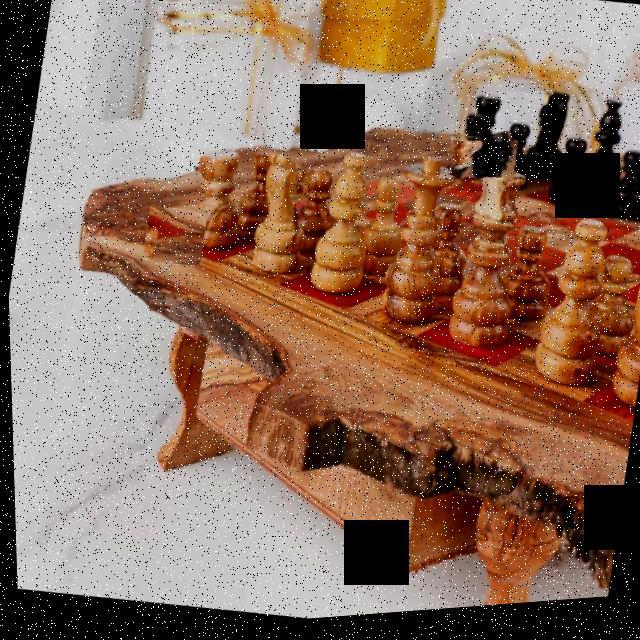chess-table-corners: (442, 132, 518, 193), (139, 205, 207, 272)
